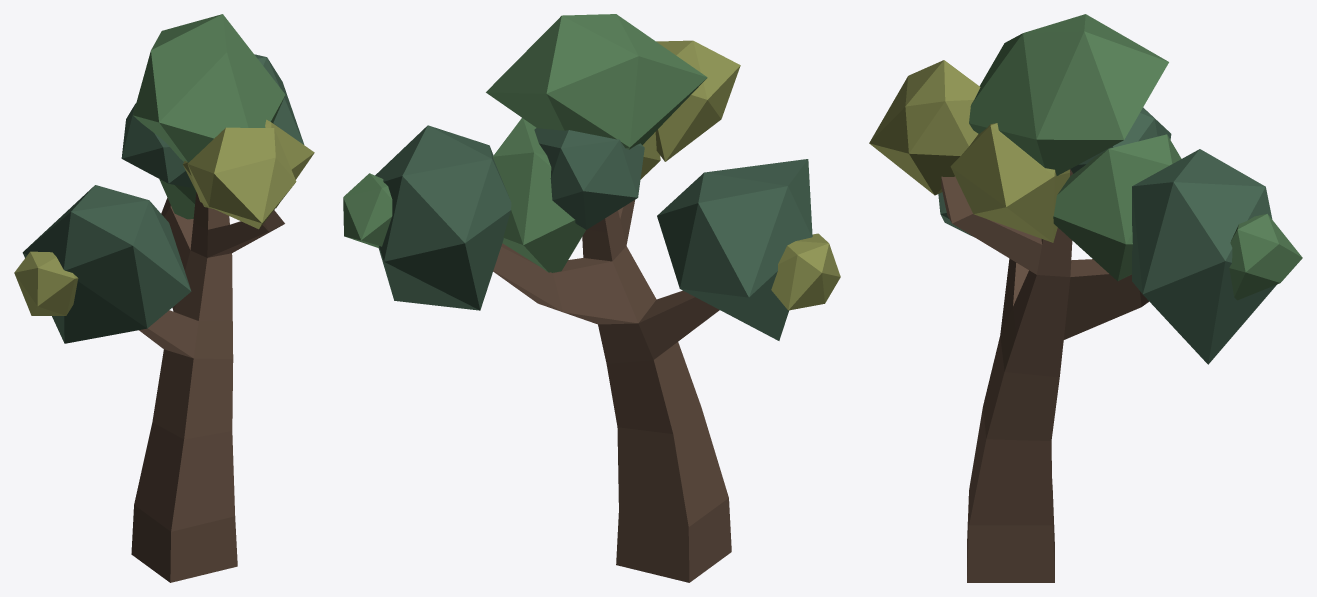
File: tree0_0.fbx
3 renders of one model, left to right at view 1: azimuth 30°, elevation 25°; view 2: azimuth 150°, elevation 25°; view 3: azimuth 270°, elevation 25°, orthographic. The views are drawn at different scales.
Visible parts, largest first — view 1: trunk.009, Icosphere.002, Icosphere.001, trunk.010, Icosphere, Icosphere.007, Icosphere.006, Icosphere.005, Icosphere.003, Icosphere.004; view 2: trunk.009, Icosphere.003, Icosphere.001, Icosphere.002, trunk.010, Icosphere.004, Icosphere.006, Icosphere, Icosphere.007, Icosphere.008; view 3: Icosphere.001, trunk.009, Icosphere.003, trunk.010, Icosphere.004, Icosphere, Icosphere.005, Icosphere.008, Icosphere.006.
Boxes of the visible parts, x1,y1,x2,y2 form: trunk.009: [131, 320, 237, 582]; Icosphere.002: [22, 185, 191, 343]; Icosphere.001: [133, 14, 285, 162]; trunk.010: [139, 192, 284, 358]; Icosphere: [187, 127, 296, 229]; Icosphere.007: [14, 251, 78, 315]; Icosphere.006: [121, 103, 191, 187]; Icosphere.005: [183, 119, 314, 208]; Icosphere.003: [254, 54, 304, 144]; Icosphere.004: [159, 179, 196, 219]; trunk.009: [598, 323, 731, 582]; Icosphere.003: [375, 125, 511, 310]; Icosphere.001: [486, 14, 707, 149]; Icosphere.002: [657, 159, 812, 340]; trunk.010: [493, 200, 719, 359]; Icosphere.004: [493, 118, 585, 272]; Icosphere.006: [534, 128, 644, 229]; Icosphere: [655, 40, 740, 161]; Icosphere.007: [771, 233, 840, 310]; Icosphere.008: [343, 173, 392, 247]; Icosphere.001: [969, 14, 1168, 175]; trunk.009: [967, 307, 1063, 582]; Icosphere.003: [1132, 149, 1276, 364]; trunk.010: [941, 169, 1148, 340]; Icosphere.004: [1053, 134, 1181, 281]; Icosphere: [869, 60, 980, 195]; Icosphere.005: [950, 123, 1070, 242]; Icosphere.008: [1229, 213, 1302, 300]; Icosphere.006: [1070, 107, 1171, 173].
Bounding box in the file's own units: 716 × 986 × 678.
